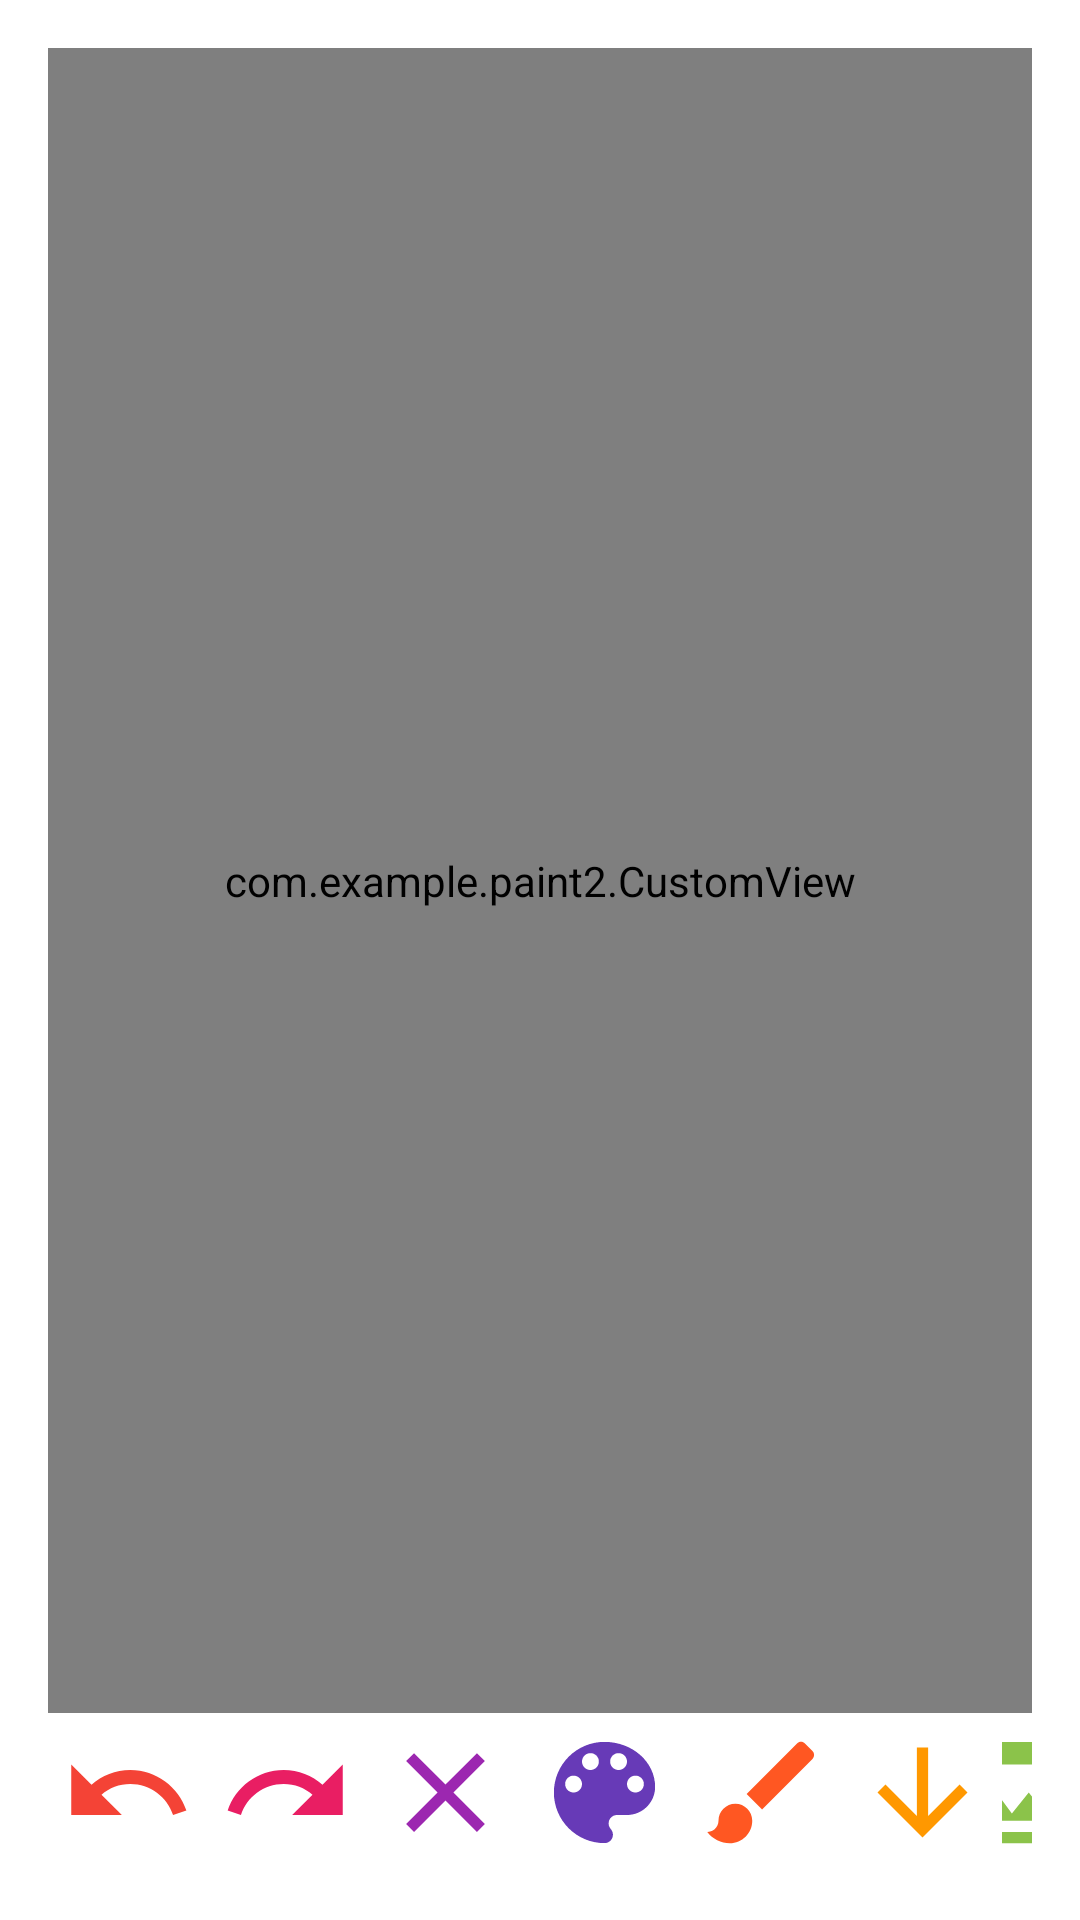

Named icons in this screenshot (1080w x 1920h) and their centers, [x,y]:
Brush Size: [760,1792]
Change Color: [604,1792]
Clear: [445,1792]
download: [922,1792]
Redo: [285,1789]
Undo: [129,1789]
